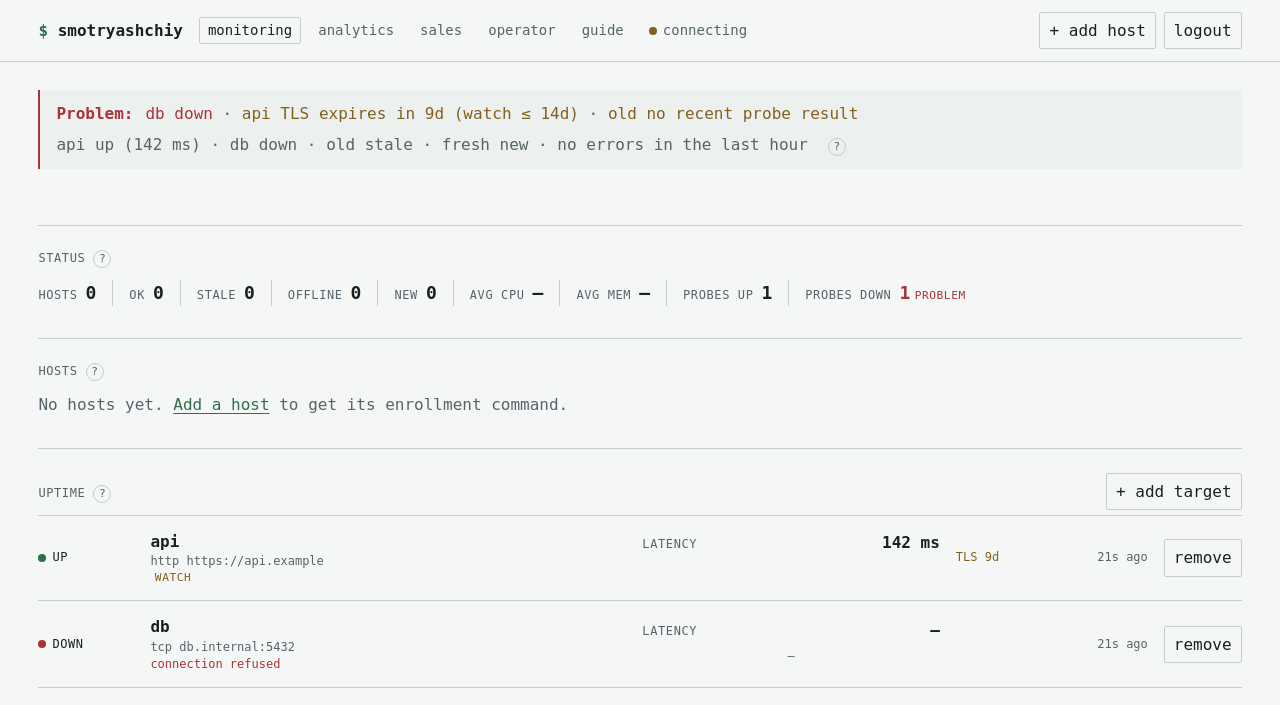
add target dialog › is accessible, focuses the name and offers the three kinds
This screenshot has width=1280, height=705.
Click the button "+ add target". click: (1174, 491)
box: [1106,473,1242,510]
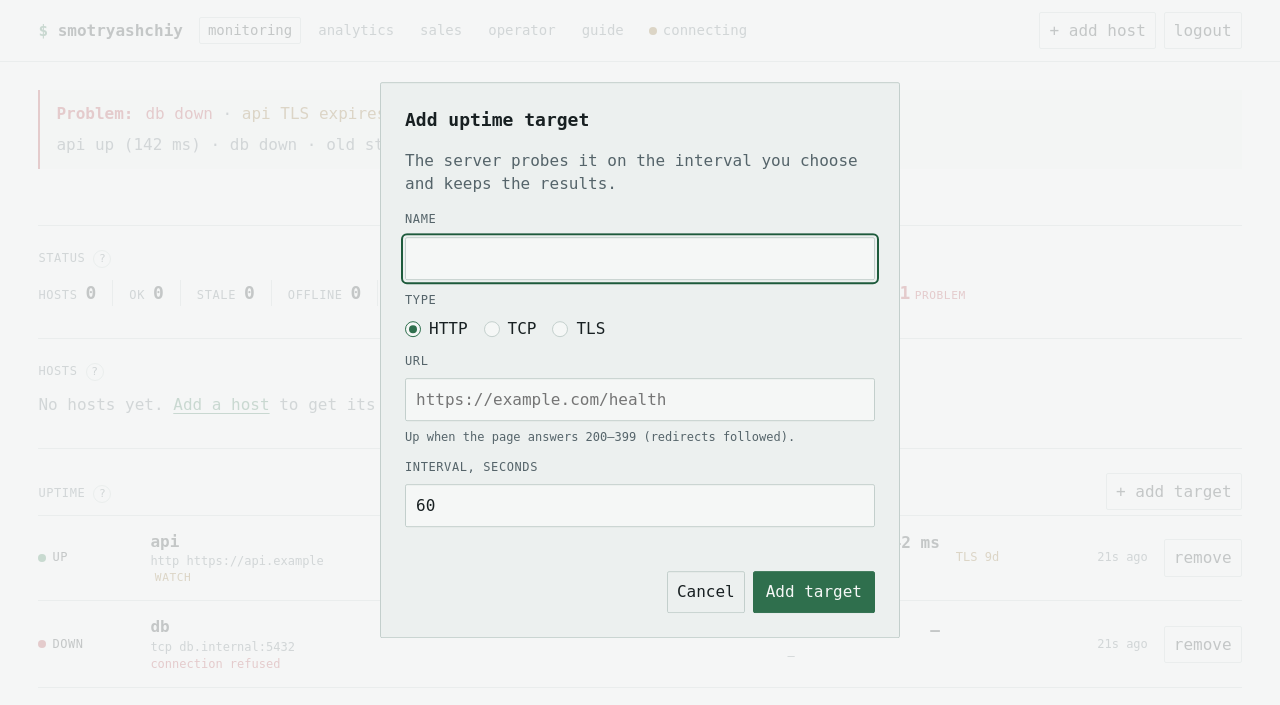
Now the 1st radio button named "HTTP" is checked, box [405,321,421,337]
